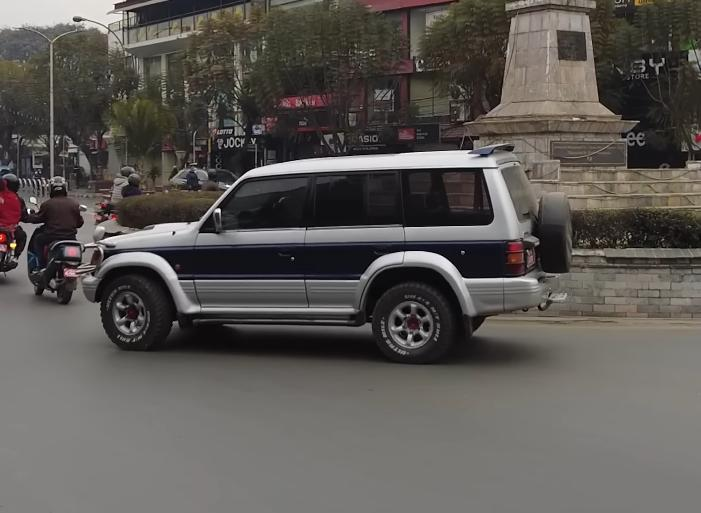SUV: (75, 137, 586, 365)
scooter: (23, 197, 88, 306)
